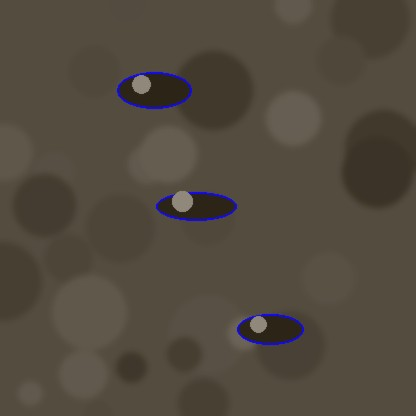gota: (117, 73, 191, 111), (156, 193, 236, 223), (237, 315, 303, 347)
